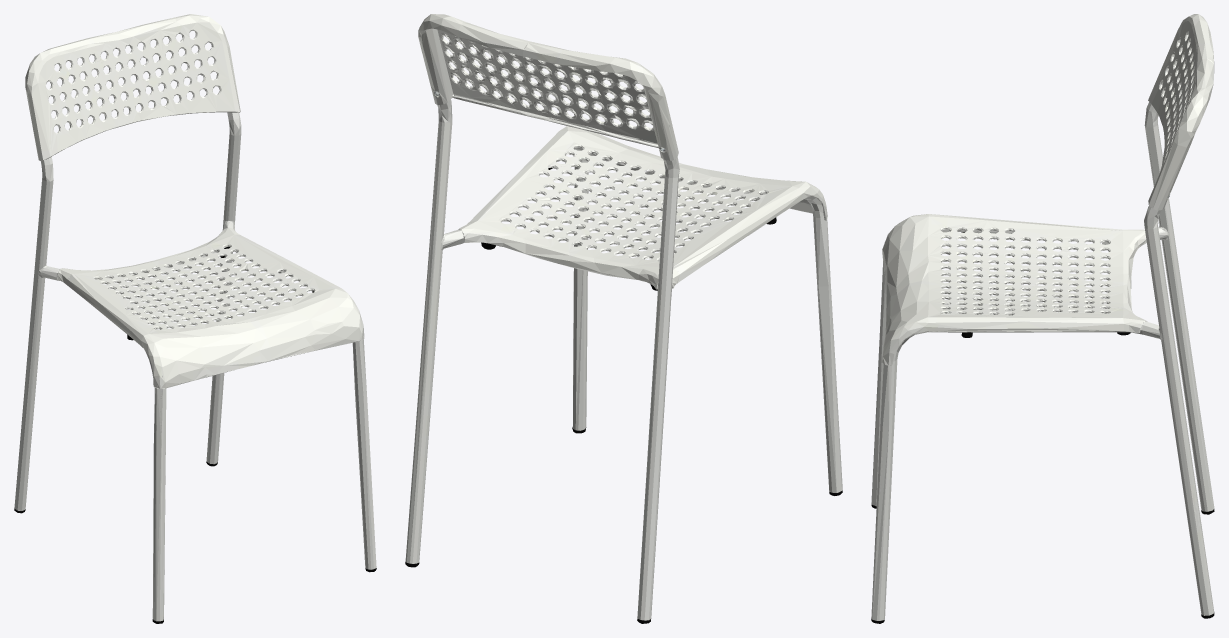
3 renders of one model, left to right at view 1: azimuth 30°, elevation 25°; view 2: azimuth 150°, elevation 25°; view 3: azimuth 270°, elevation 25°, orthographic. The views are drawn at different scales.
Visible parts, largest first — view 1: ASY_ART_10605424_S01_NV01_NODE_ID_3c8723ca-38a8-4253-b638-45; view 2: ASY_ART_10605424_S01_NV01_NODE_ID_3c8723ca-38a8-4253-b638-45; view 3: ASY_ART_10605424_S01_NV01_NODE_ID_3c8723ca-38a8-4253-b638-45.
Part boxes in pixels (left/top/right/bottom): ASY_ART_10605424_S01_NV01_NODE_ID_3c8723ca-38a8-4253-b638-45: left=14, top=14, right=376, bottom=623; ASY_ART_10605424_S01_NV01_NODE_ID_3c8723ca-38a8-4253-b638-45: left=405, top=14, right=842, bottom=623; ASY_ART_10605424_S01_NV01_NODE_ID_3c8723ca-38a8-4253-b638-45: left=871, top=14, right=1214, bottom=623.
Bounding box in the file's own units: 0.39 × 0.77 × 0.47.
1 material, 1 textured.
